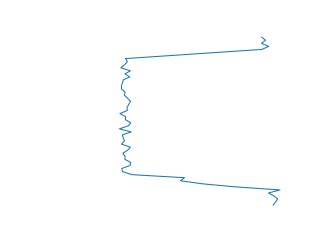distributaryChannelFill: (114, 36, 286, 207)
